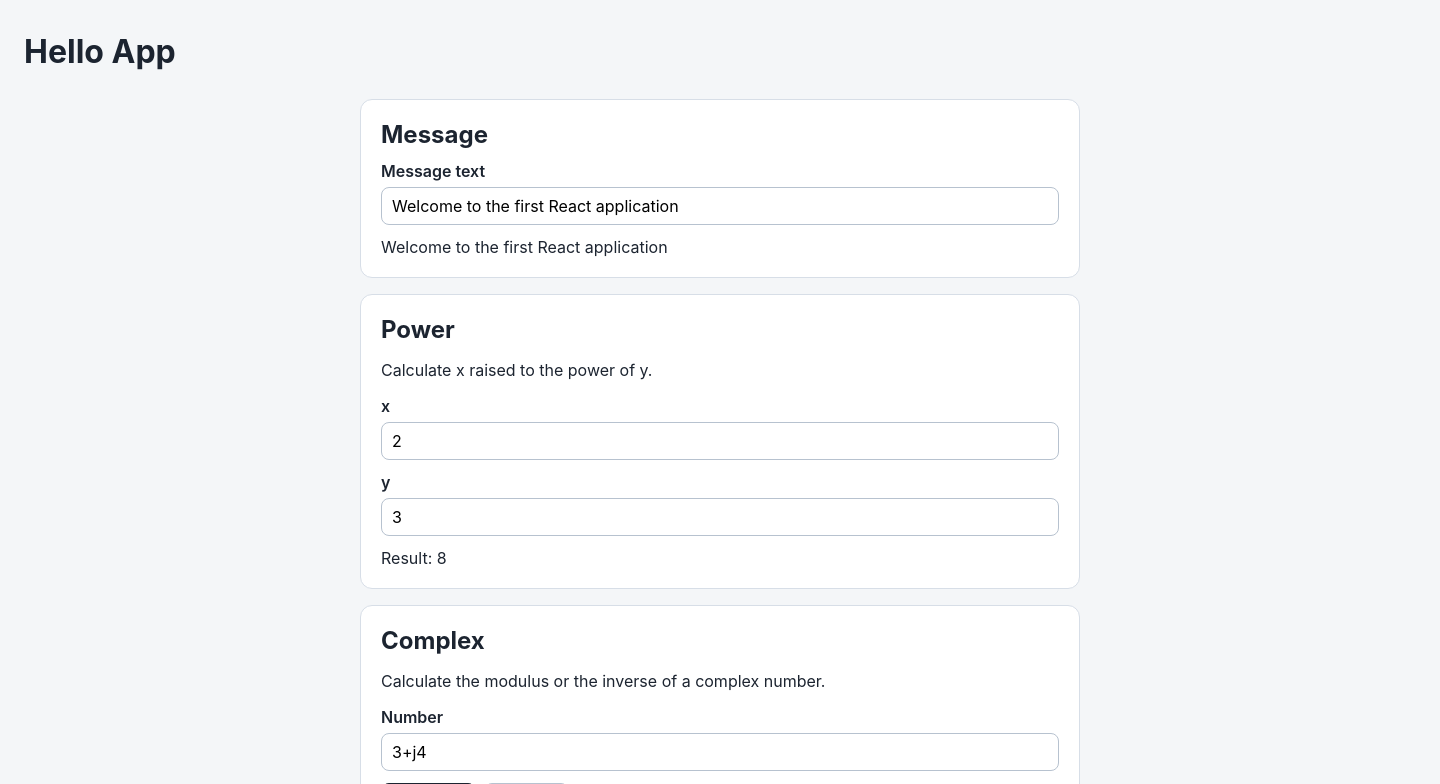
rejects an invalid complex number
Type "abc" into the field with placeholder "3+j4" at (720, 752), box [381, 733, 1059, 771]
(page scrolled)
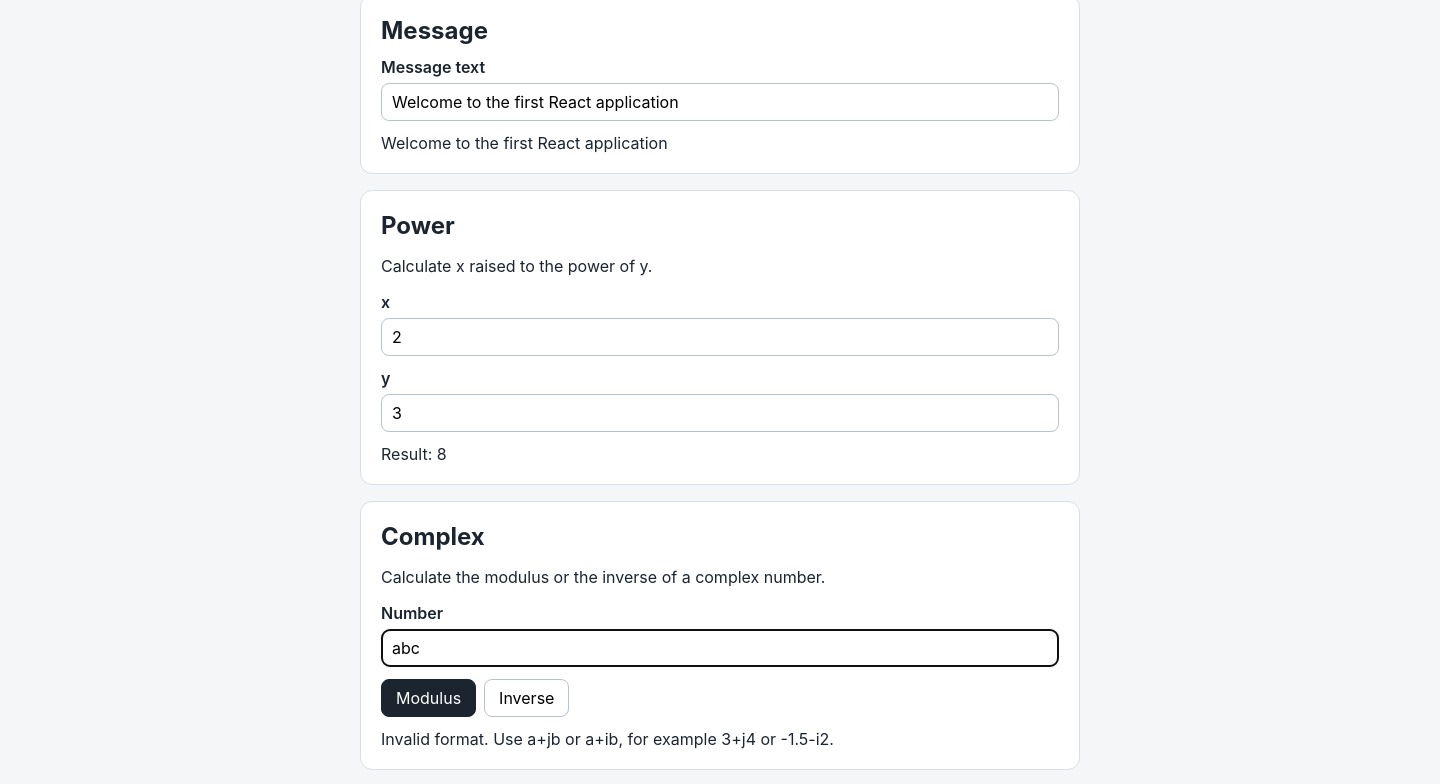
Check: the text "Invalid format" is shown, box [381, 729, 834, 749]
